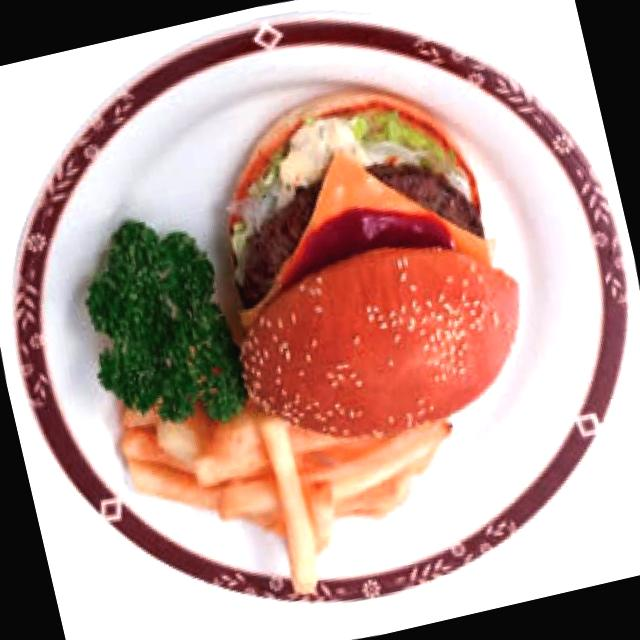French Fries: (112, 360, 470, 632)
Hamburger: (183, 56, 563, 473)
